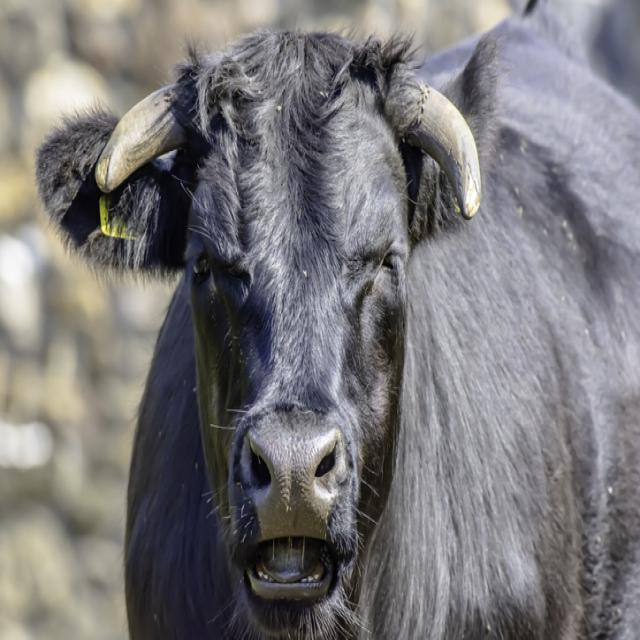cowFace: (35, 37, 487, 598)
